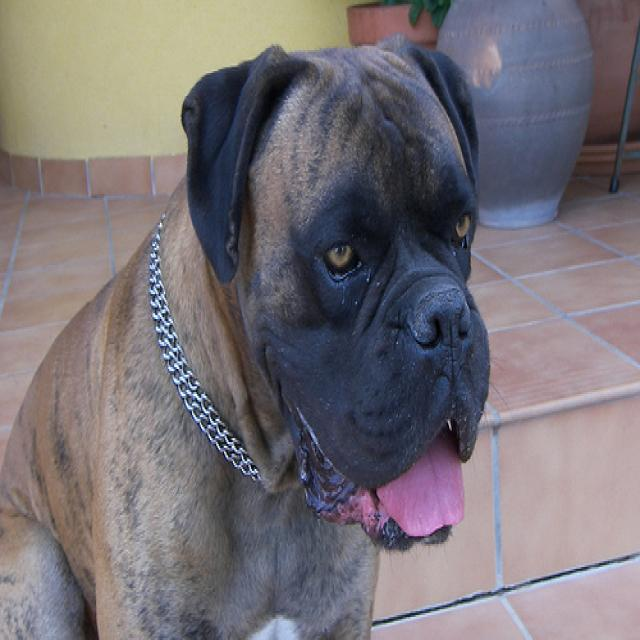dog-boxer: (1, 15, 503, 636)
